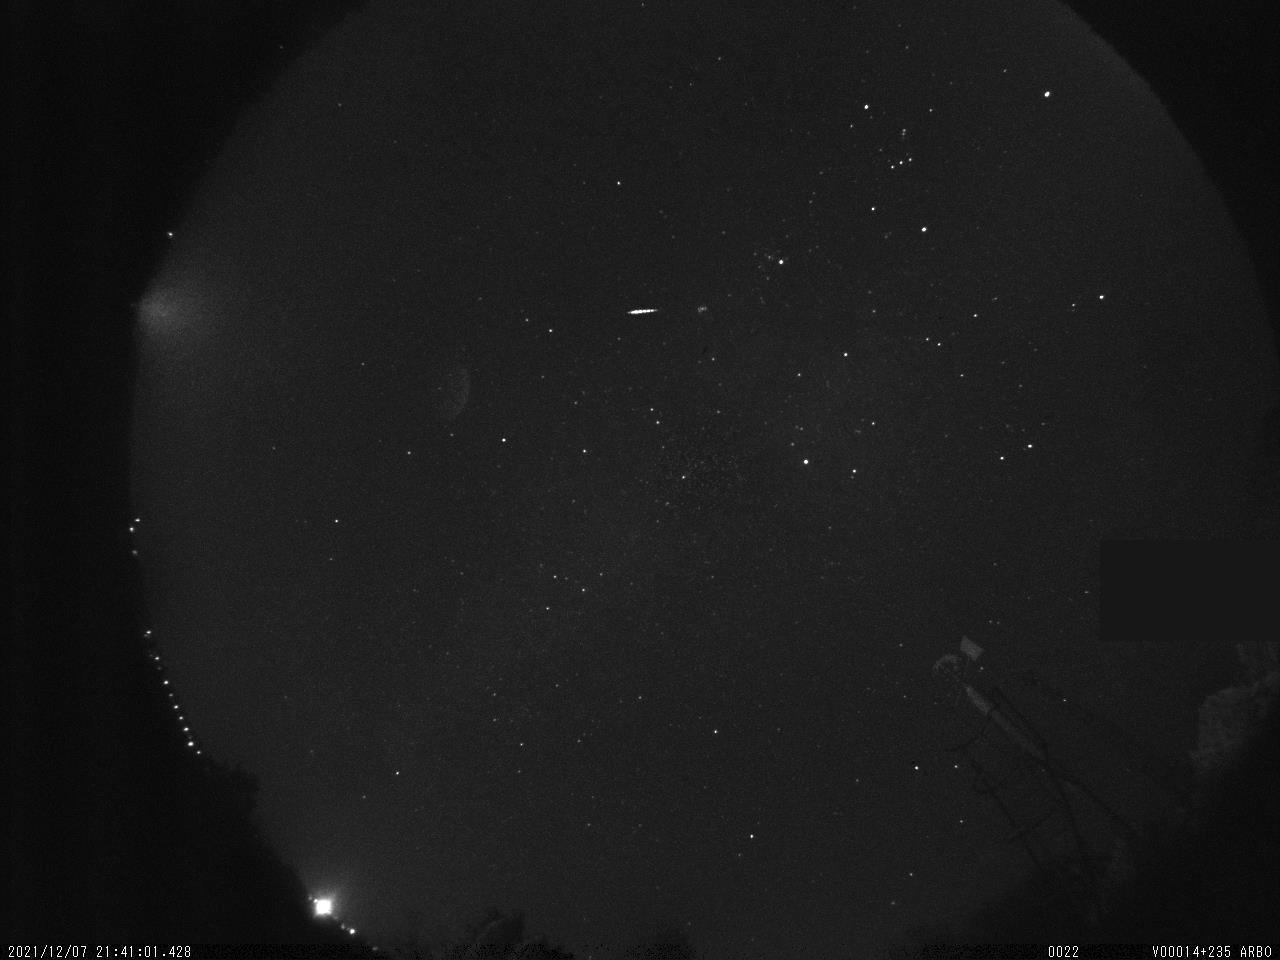meteor: (607, 292, 671, 343)
